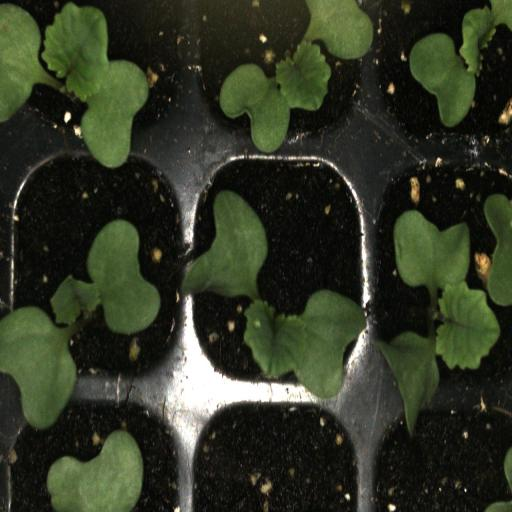Folha: (373, 194, 512, 426), (46, 429, 144, 512)
Germinacao: (185, 146, 368, 396), (9, 144, 184, 392), (8, 0, 186, 145), (186, 0, 361, 146), (380, 0, 512, 141)
